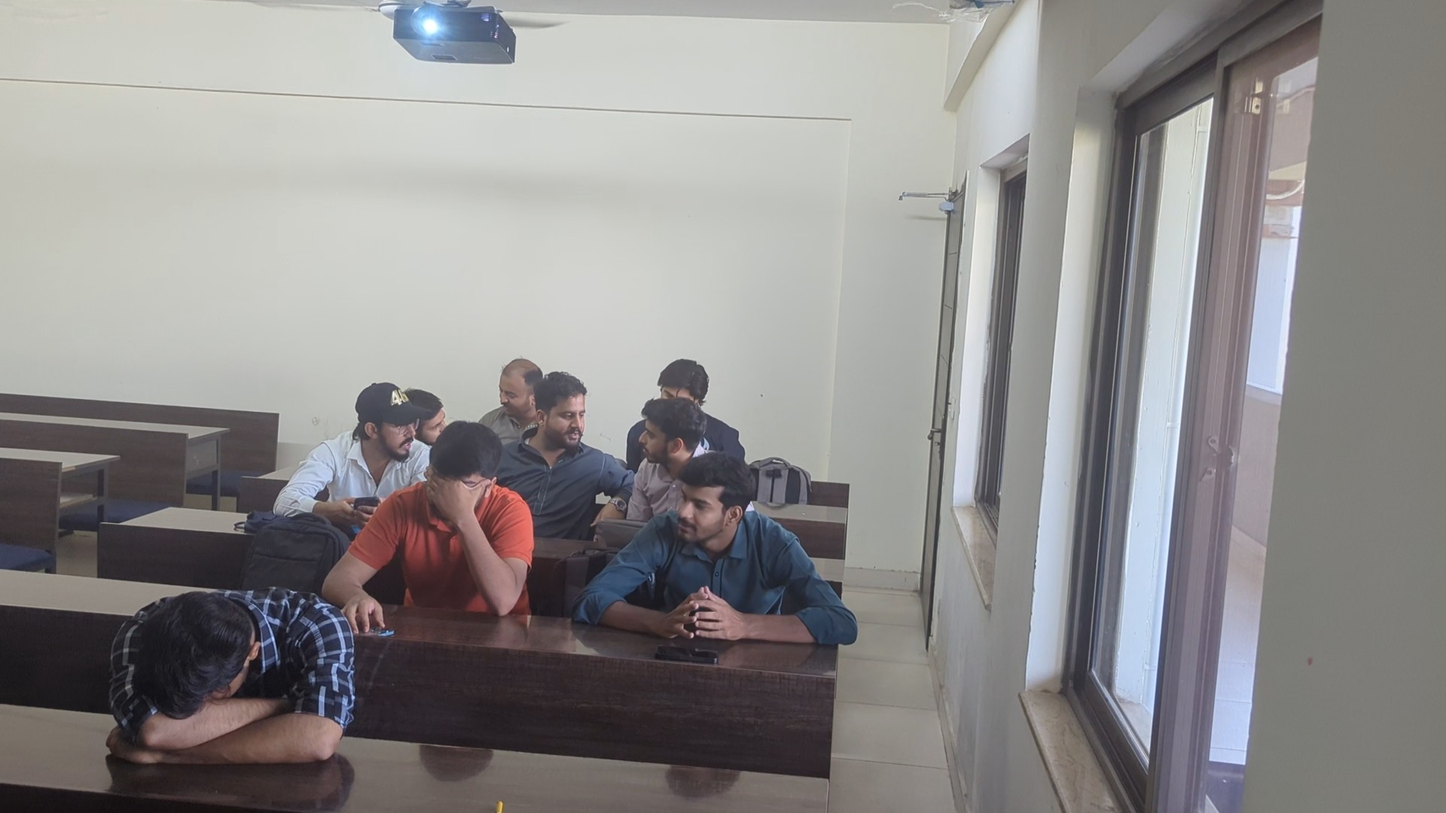look_forward: (575, 454, 862, 648)
sleep: (99, 587, 354, 772), (340, 422, 535, 636)
turn_head: (509, 367, 619, 524), (626, 399, 725, 494), (635, 359, 719, 409), (408, 381, 456, 443)
using_device: (278, 379, 427, 532), (470, 361, 541, 437)
